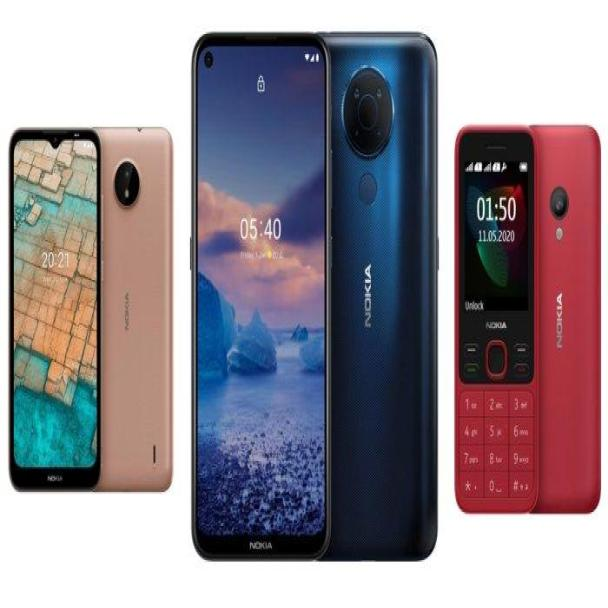Handphone: (194, 35, 328, 551), (330, 33, 435, 562), (8, 129, 100, 488), (458, 122, 537, 516), (540, 124, 603, 516), (102, 128, 170, 491)
